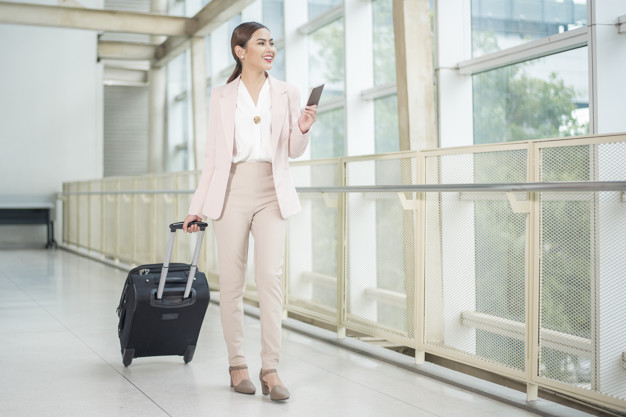luggage: (116, 230, 204, 374)
